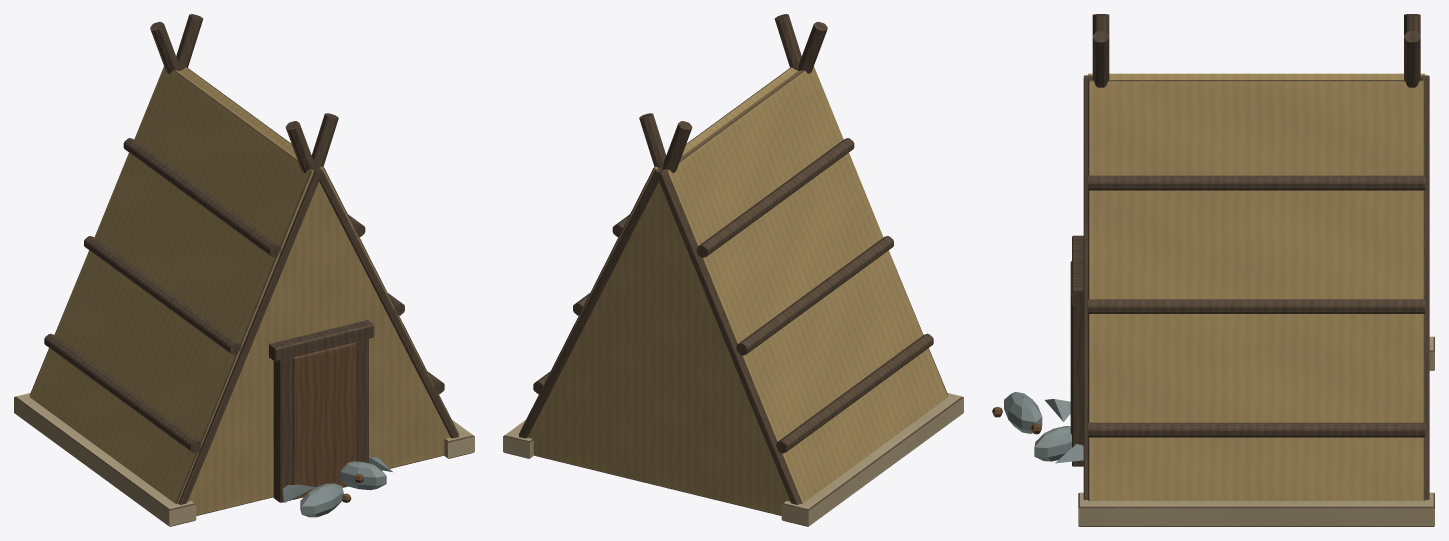
The model's file is lashed-a-frame.glb.
3 views of the same model, side by side, from view 1: azimuth 30°, elevation 25°; view 2: azimuth 150°, elevation 25°; view 3: azimuth 270°, elevation 25° (orthographic). The views are drawn at different scales.
Visible parts, largest first — view 1: lashed-a-frame; view 2: lashed-a-frame; view 3: lashed-a-frame.
Part boxes in pixels (box(x1,y1,x2,y2)): lashed-a-frame: box(14, 14, 474, 526); lashed-a-frame: box(503, 14, 963, 526); lashed-a-frame: box(992, 14, 1434, 526).
Bounding box in the file's own units: 0.625 × 0.7172 × 0.6831.
1 material, 1 textured.
